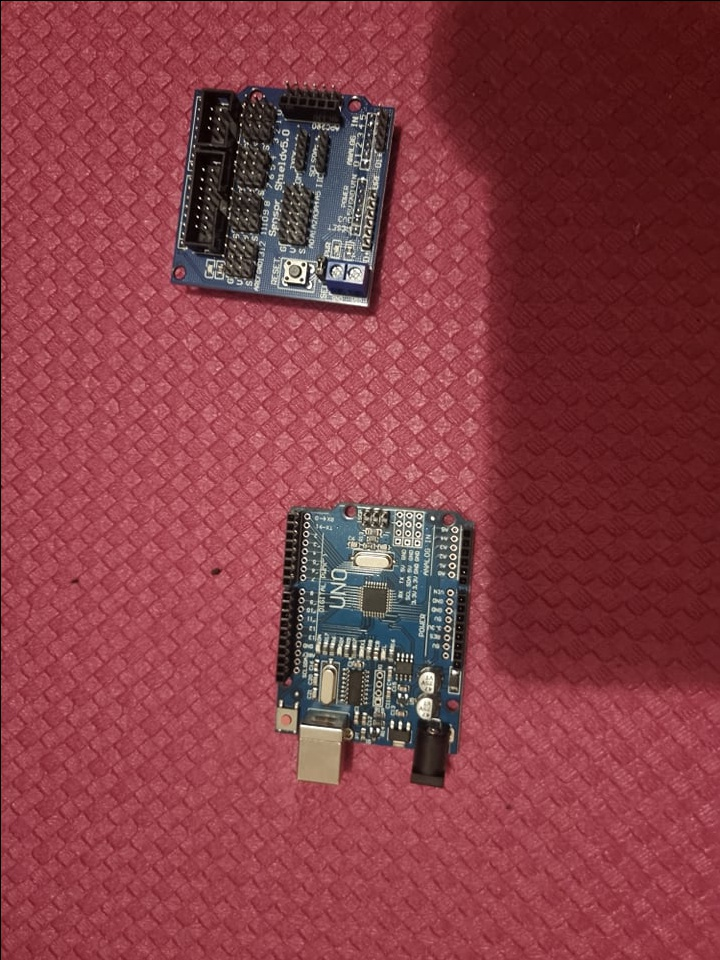5V EXPANSION: (170, 74, 409, 311)
UNO R3: (271, 501, 473, 792)
